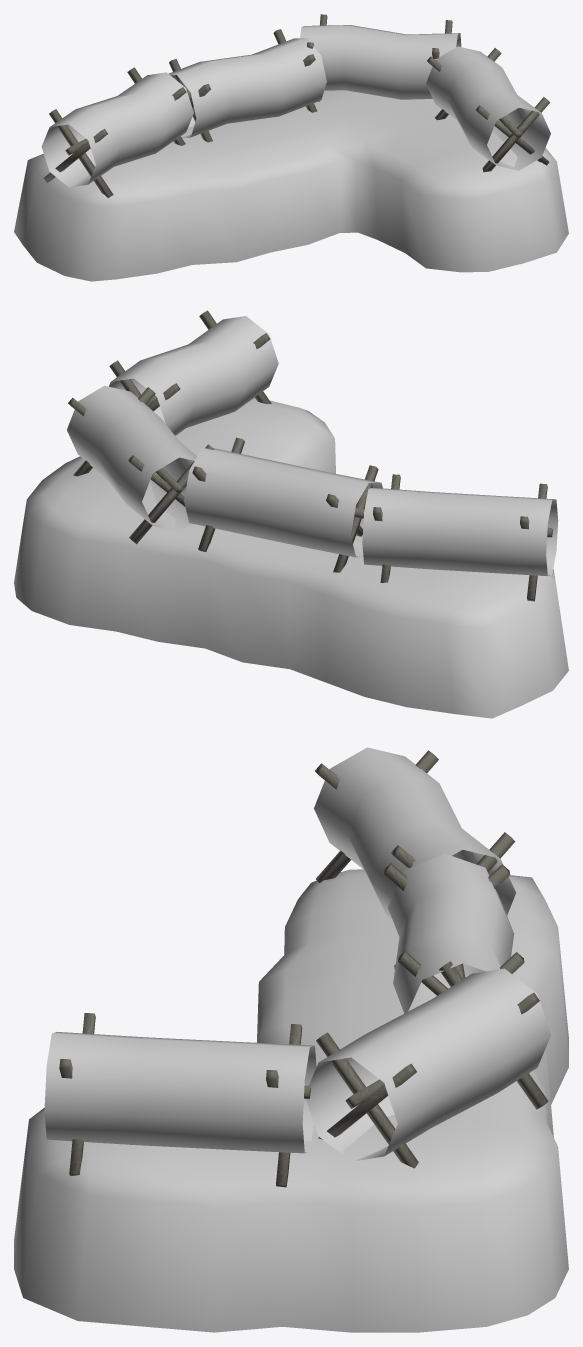
The model's file is wire4.fbx.
3 views of the same model, one above another, from view 1: azimuth 30°, elevation 25°; view 2: azimuth 150°, elevation 25°; view 3: azimuth 270°, elevation 25° (orthographic). The views are drawn at different scales.
Parts seen in each view (by area): view 1: Cube.141; view 2: Cube.141; view 3: Cube.141.
Part boxes in pixels (box(x1,y1,x2,y2)): Cube.141: box(14, 14, 568, 281); Cube.141: box(14, 310, 568, 718); Cube.141: box(14, 747, 568, 1332).
Size of the model in its own units: 650 by 206 by 427.
